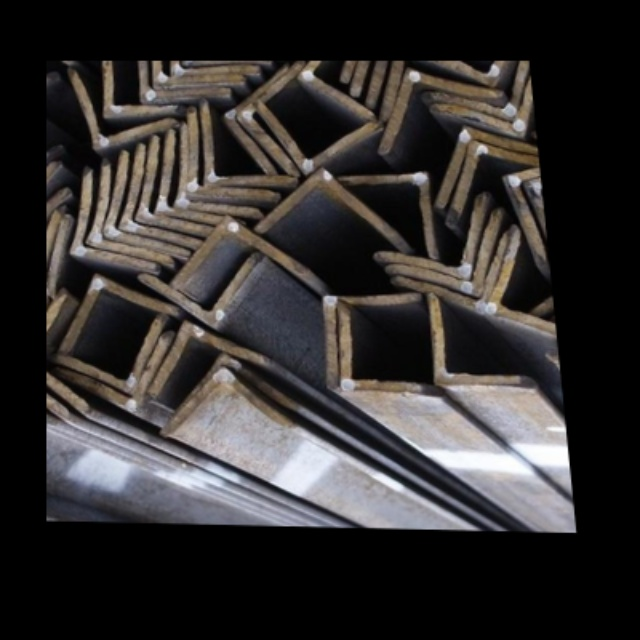Angle: (258, 175, 404, 247), (321, 292, 423, 383), (383, 213, 503, 286), (82, 164, 170, 260), (395, 233, 512, 305), (58, 279, 176, 349), (432, 131, 543, 204), (59, 335, 174, 405), (172, 222, 303, 283), (152, 327, 263, 398), (69, 175, 154, 267), (102, 158, 184, 253), (376, 201, 490, 268), (430, 300, 521, 381), (445, 147, 544, 220), (119, 149, 194, 243), (163, 375, 284, 433), (238, 65, 306, 168), (433, 61, 536, 129), (62, 319, 166, 386), (224, 69, 291, 171), (489, 234, 557, 334), (201, 105, 287, 183), (188, 117, 272, 195), (133, 142, 205, 231), (349, 176, 433, 252), (75, 80, 171, 145), (145, 260, 256, 316), (175, 135, 253, 212), (339, 310, 417, 386), (264, 110, 369, 166), (379, 61, 493, 111), (427, 61, 534, 113), (157, 134, 215, 220), (180, 358, 280, 405), (366, 61, 478, 101), (46, 298, 83, 407), (100, 61, 176, 110), (305, 61, 370, 116), (352, 61, 465, 90), (141, 61, 222, 95)
